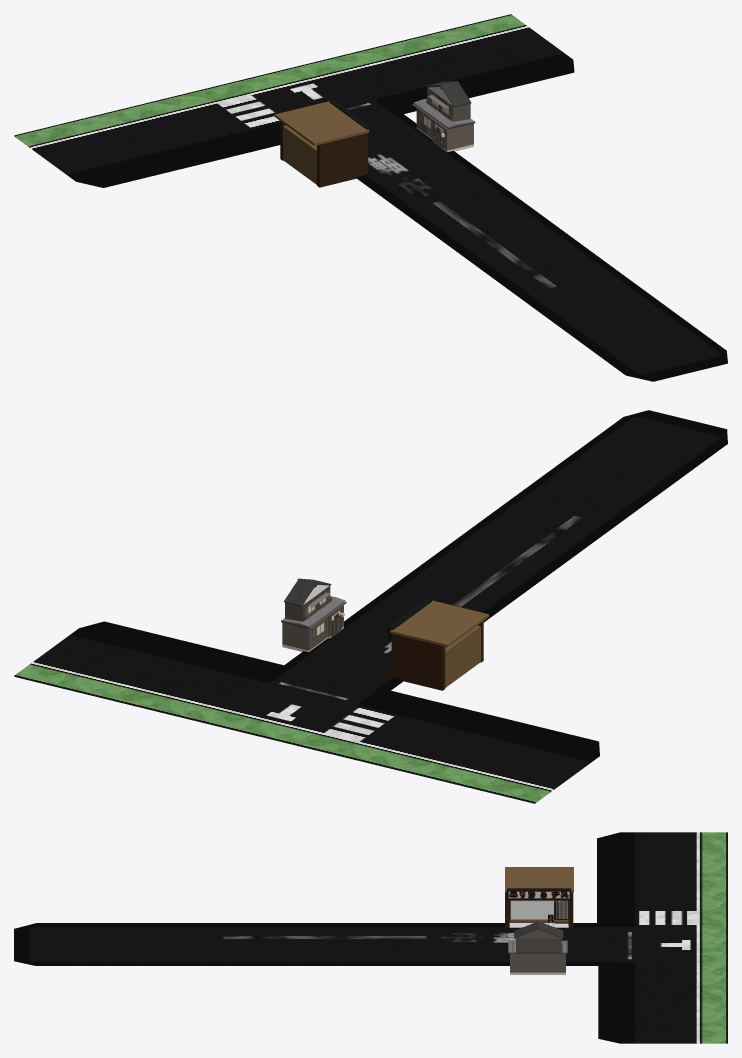
Rendered from TestTExport.fbx.
3 views of the same model, one above another, from view 1: azimuth 30°, elevation 25°; view 2: azimuth 150°, elevation 25°; view 3: azimuth 270°, elevation 25° (orthographic). The views are drawn at different scales.
Visible parts, largest first — view 1: road.001, Cube_012, jphouse1, Cube_001, road; view 2: road.001, Cube_012, jphouse1, Cube_001, road; view 3: road.001, jphouse1, Cube_012, Cube_007, Cube_053, road.
Part boxes in pixels (x1=…): road.001: x1=14, y1=14, x2=727, y2=380; Cube_012: x1=274, y1=101, x2=369, y2=184; jphouse1: x1=412, y1=81, x2=475, y2=152; Cube_001: x1=280, y1=121, x2=368, y2=187; road: x1=14, y1=72, x2=727, y2=381; road.001: x1=14, y1=410, x2=727, y2=802; Cube_012: x1=390, y1=600, x2=489, y2=687; jphouse1: x1=281, y1=578, x2=346, y2=652; Cube_001: x1=391, y1=621, x2=483, y2=690; road: x1=14, y1=443, x2=727, y2=803; road.001: x1=14, y1=832, x2=727, y2=1042; jphouse1: x1=508, y1=921, x2=567, y2=974; Cube_012: x1=505, y1=867, x2=573, y2=892; Cube_007: x1=510, y1=900, x2=553, y2=919; Cube_053: x1=507, y1=888, x2=570, y2=900; road: x1=14, y1=960, x2=727, y2=1043.
Bounding box in the file's own units: 49.77 × 5.16 × 71.33.
